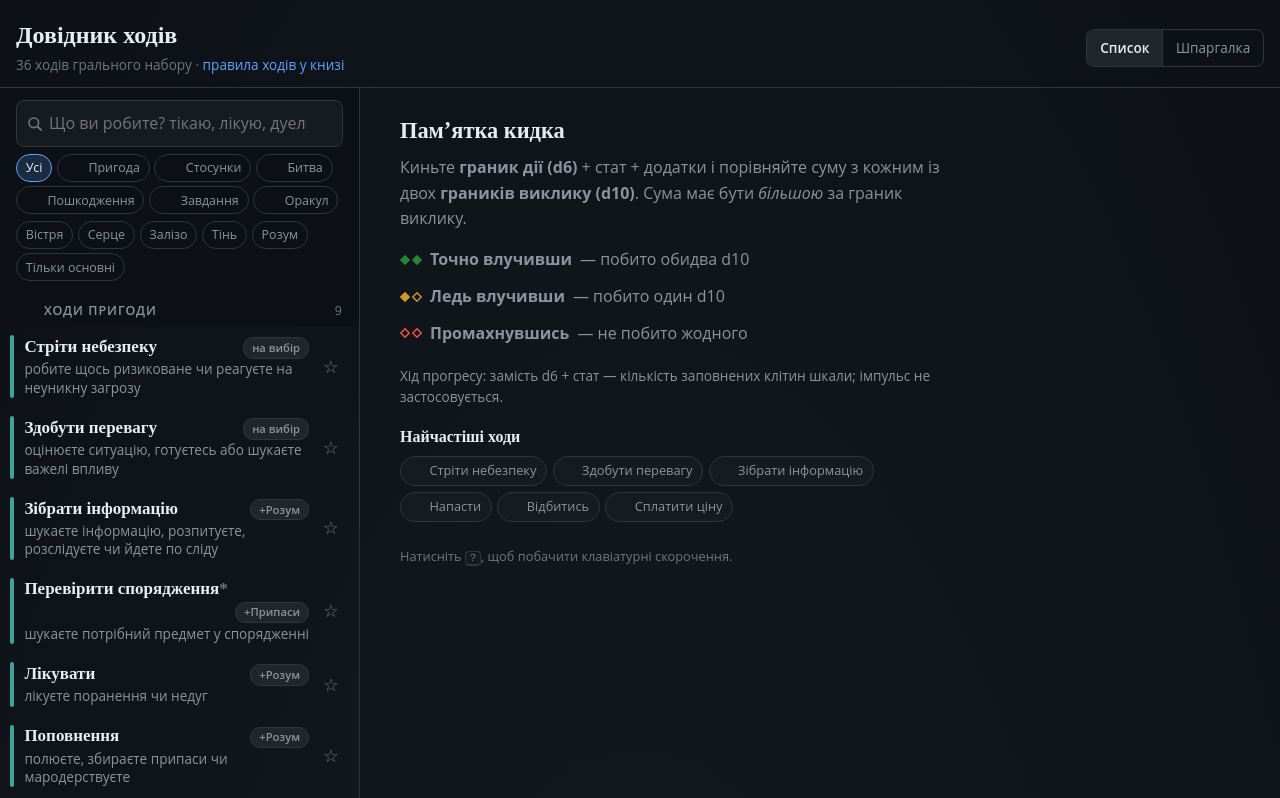
Test: список і пошук › пише запит у URL і ставить найкращий збіг першим
Type "лікую" into the search field named "Пошук ходу" at (180, 124), box [16,100,343,147]
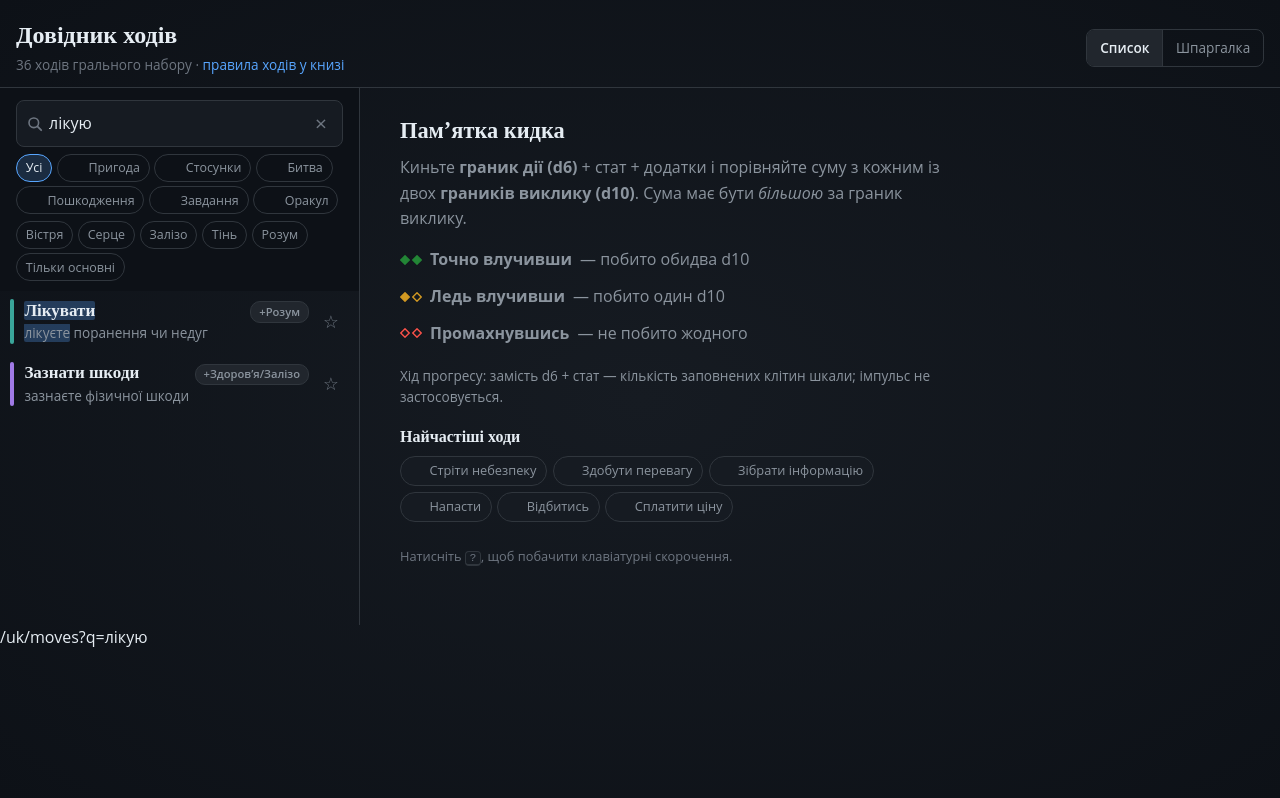
Expected: the text "Лікувати" is shown, [24,301,95,320]
Expected: the text with test id "location" reads "/uk/moves?q=лікую", [0,626,148,648]
